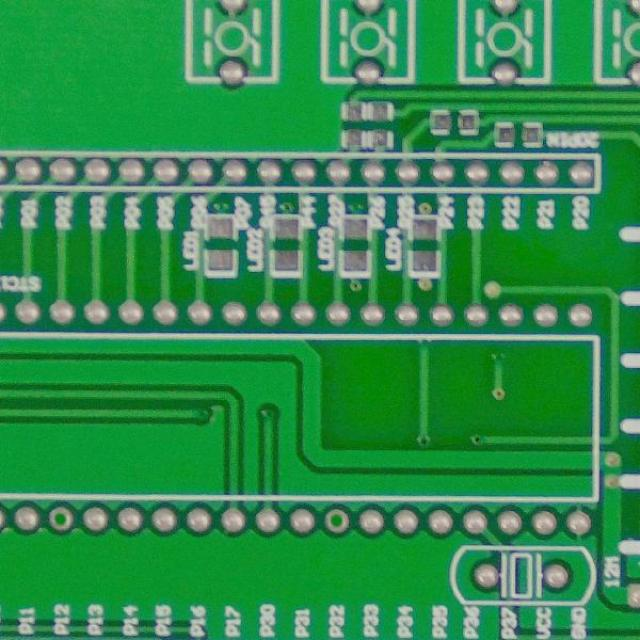Missing_Hole: (42, 502, 79, 534), (322, 506, 352, 536)
